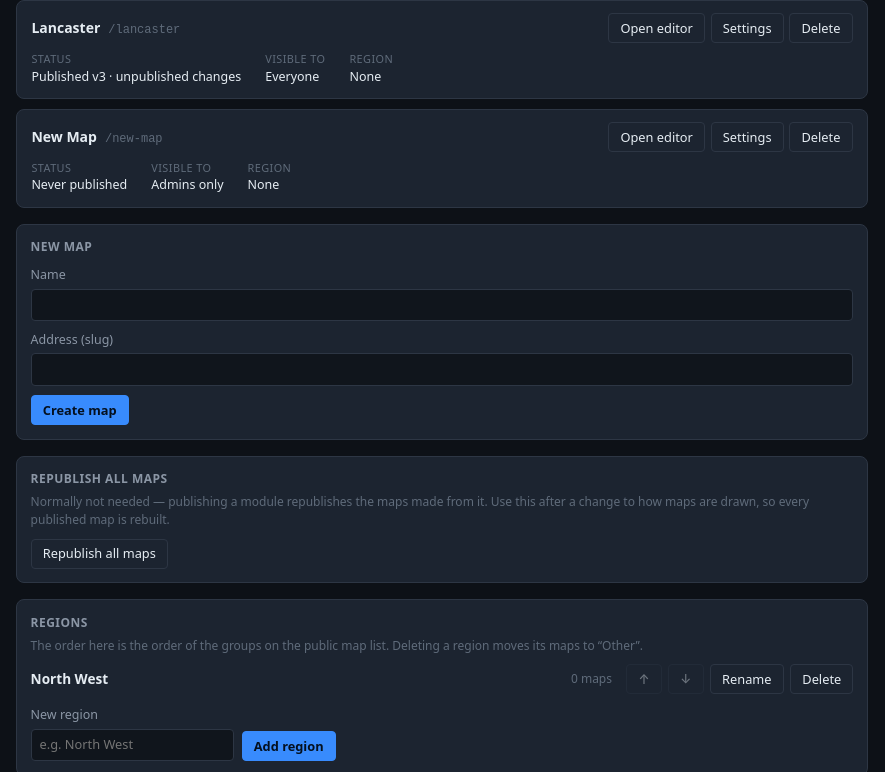
Test: AdminMapsPage › Milestone 85: republishes all maps after confirming, and shows the outcome
(page scrolled)
Click the button "Republish all maps" at point(99, 554), box [31, 539, 168, 568]
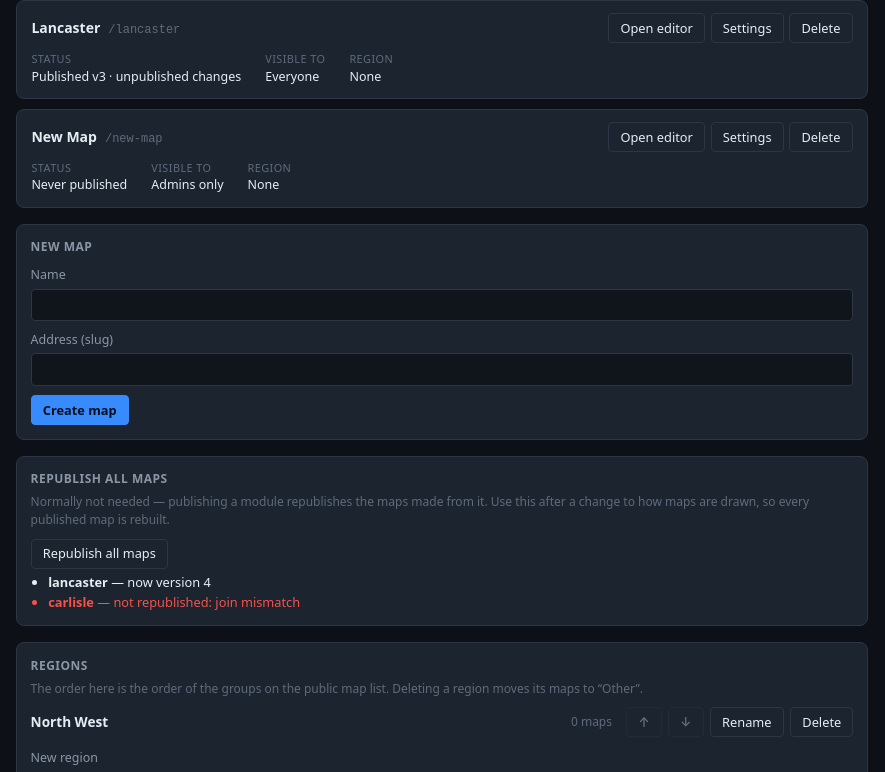
Check: the list item "— now version 4" is shown, box [111, 573, 211, 591]
Check: the list item "carlisle — not republished: join mismatch" is shown, box [48, 592, 300, 610]
